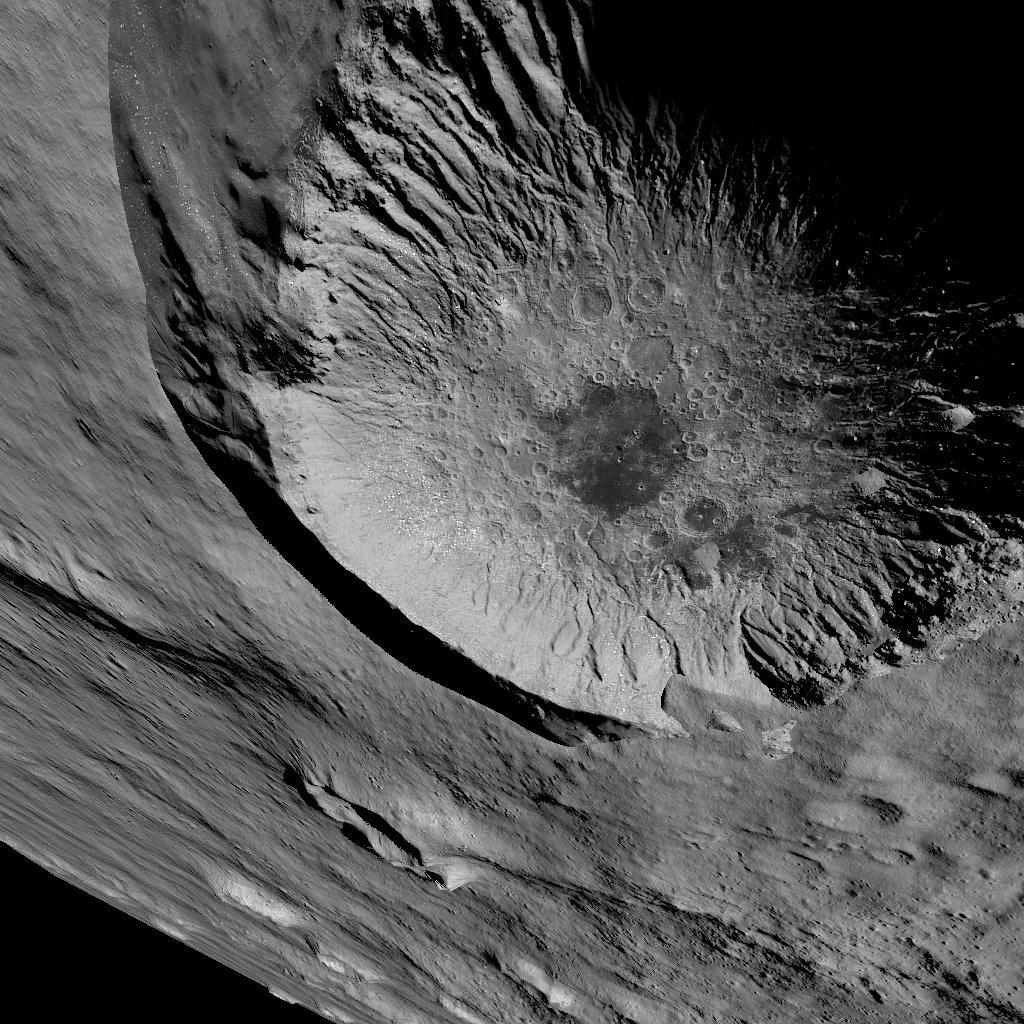Crater: (93, 0, 1024, 752), (270, 766, 458, 902)
Plan surface: (505, 782, 1024, 1024)
